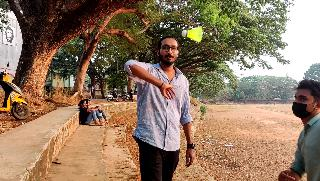shuttlecock: (181, 26, 203, 42)
